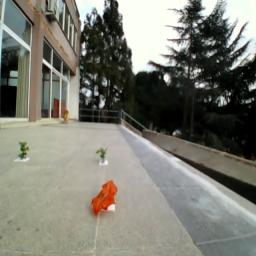herb: (18, 142, 32, 163), (97, 147, 110, 166)
wild: (92, 182, 119, 218)
